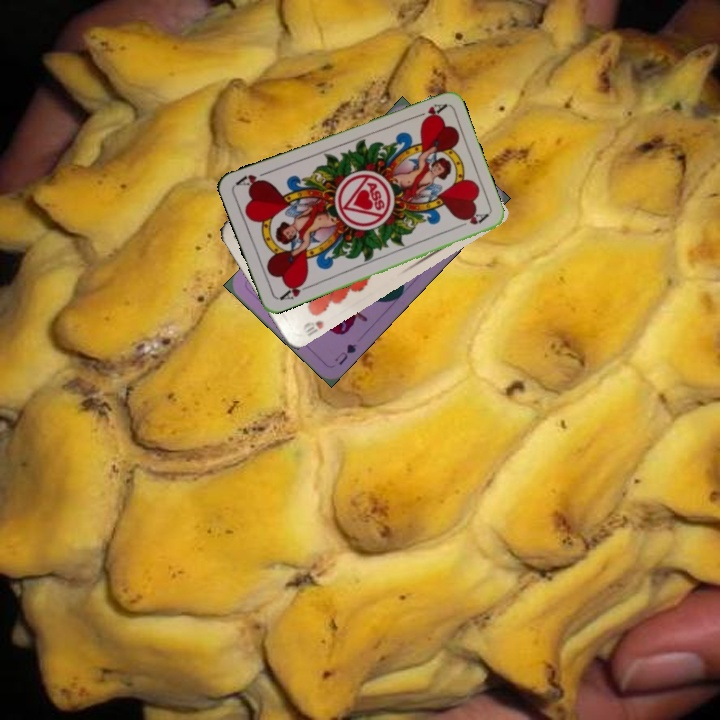GU: (330, 340, 359, 368)
H10: (298, 316, 326, 338)
HA: (275, 277, 314, 303), (409, 99, 448, 125)
